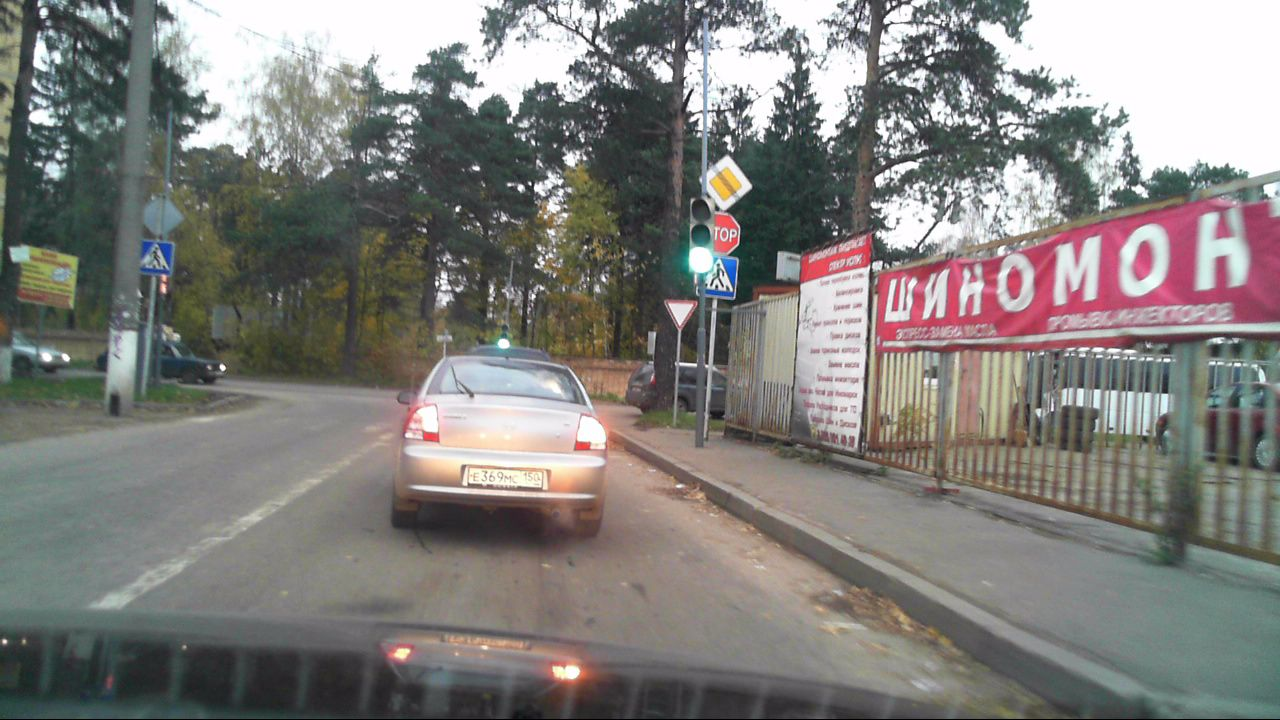main road: (698, 156, 750, 211)
